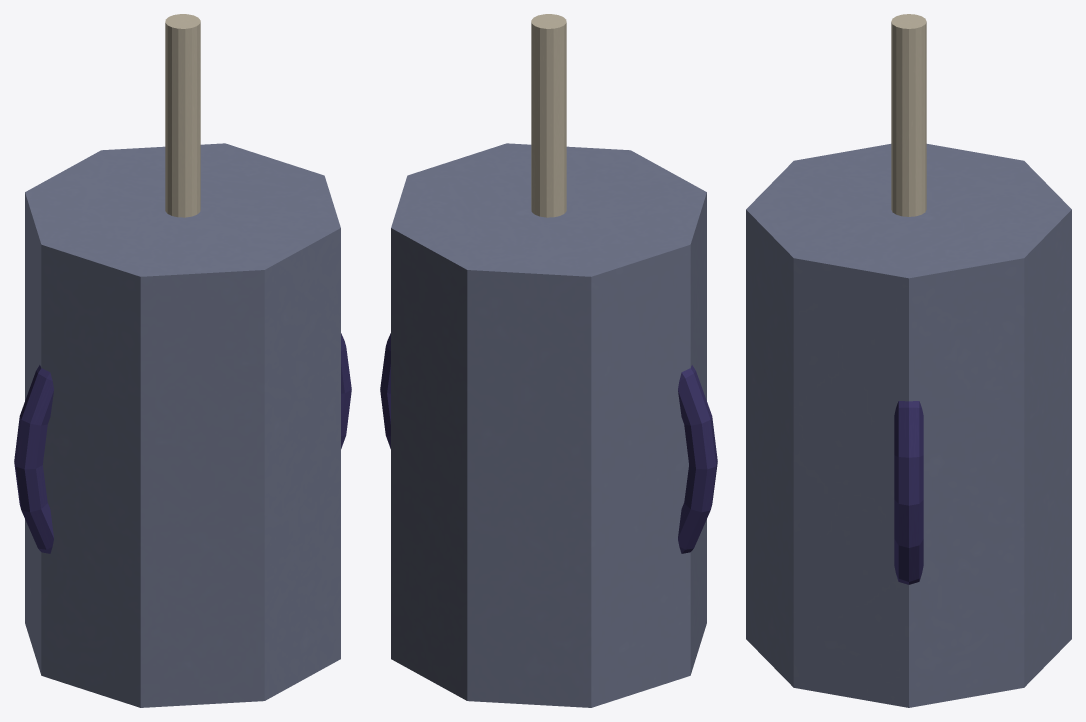
File: warden-lantern.glb
The picture shows the model from 3 angles, left to right: view 1: azimuth 30°, elevation 25°; view 2: azimuth 150°, elevation 25°; view 3: azimuth 270°, elevation 25°; orthographic projection.
Visible parts, largest first — view 1: wardenlantern-body, wardenlantern-handle, wardenlantern-cage-ring; view 2: wardenlantern-body, wardenlantern-handle, wardenlantern-cage-ring; view 3: wardenlantern-body, wardenlantern-handle, wardenlantern-cage-ring.
Part boxes in pixels (x1,y1,x2,y2): wardenlantern-body: (25,143,340,707); wardenlantern-handle: (165,14,200,217); wardenlantern-cage-ring: (14,333,351,553); wardenlantern-body: (391,143,706,707); wardenlantern-handle: (531,14,566,217); wardenlantern-cage-ring: (380,333,717,553); wardenlantern-body: (746,144,1071,707); wardenlantern-handle: (891,14,926,216); wardenlantern-cage-ring: (894,401,923,584).
Size of the model in its own units: 0.26 by 0.46 by 0.22.
4 materials, 4 textured.
